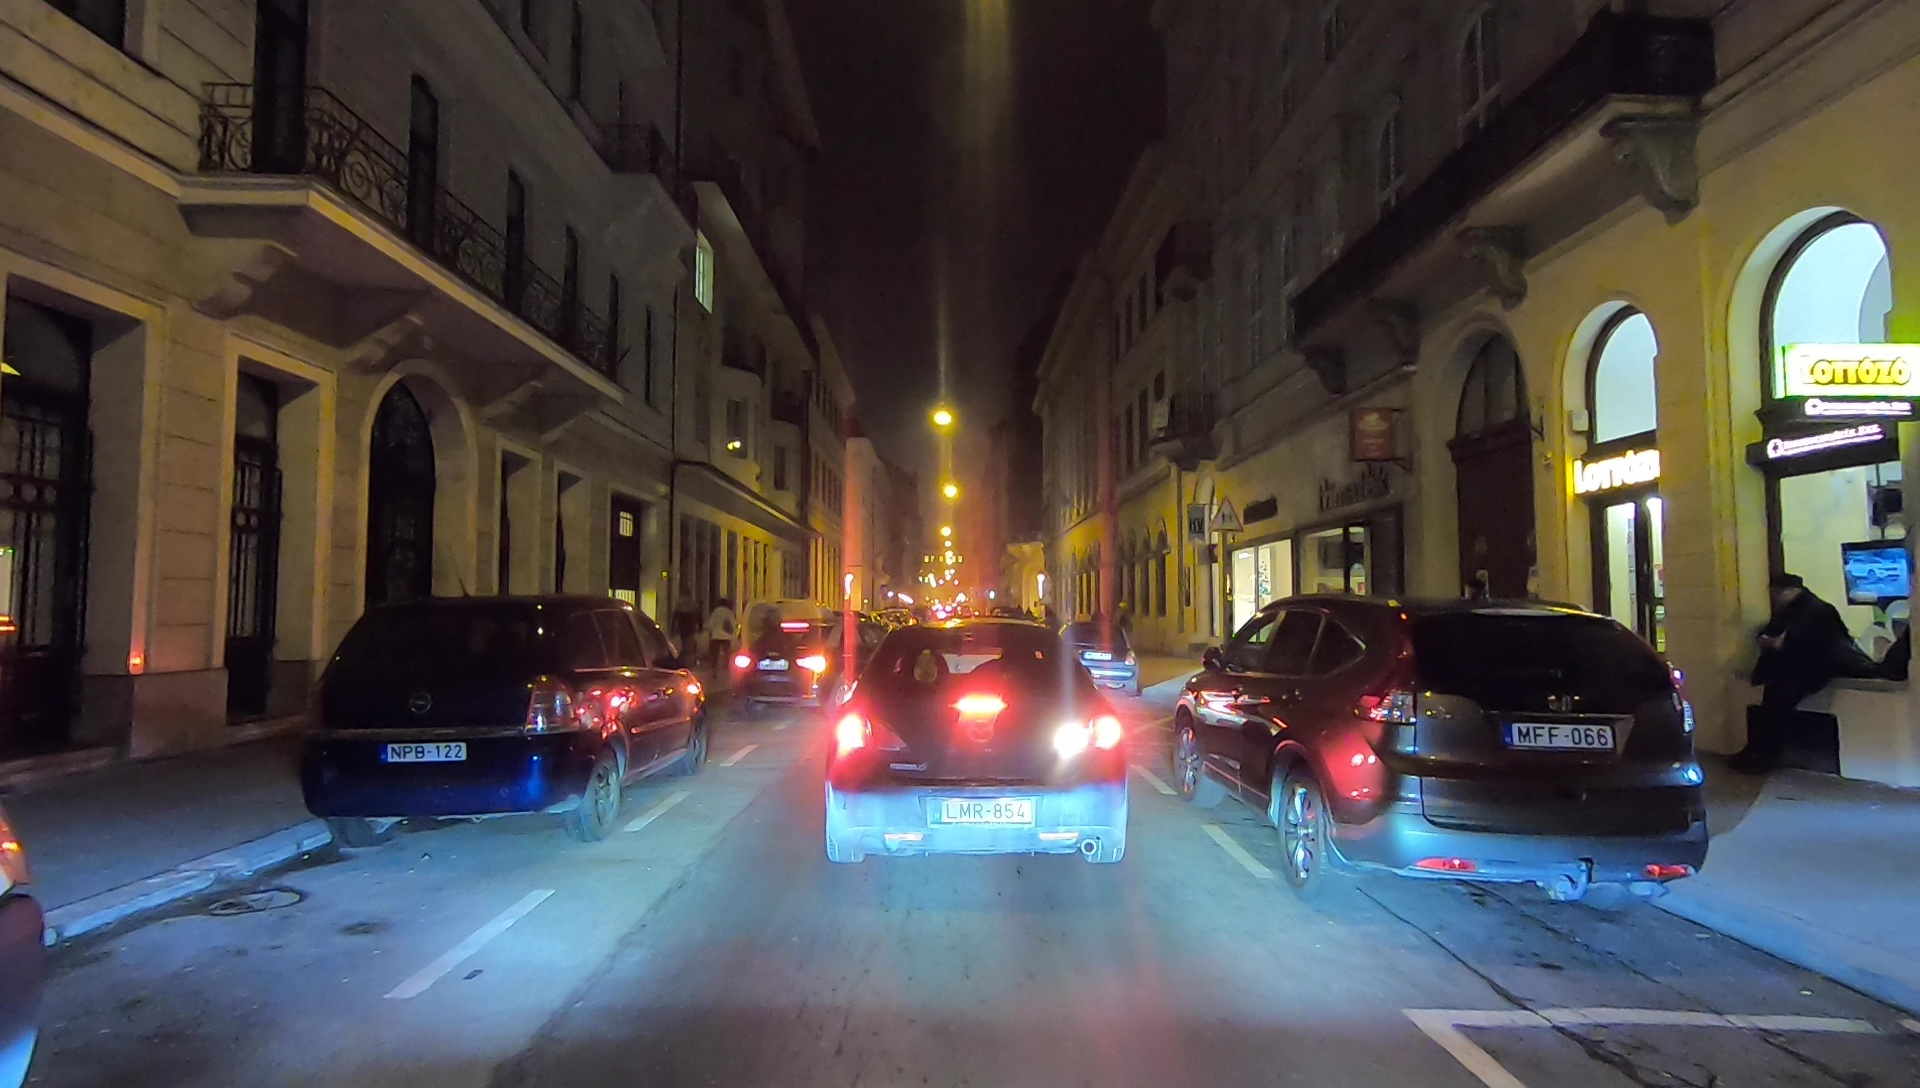person: (1751, 576, 1845, 776), (708, 593, 738, 689), (671, 591, 702, 684)
